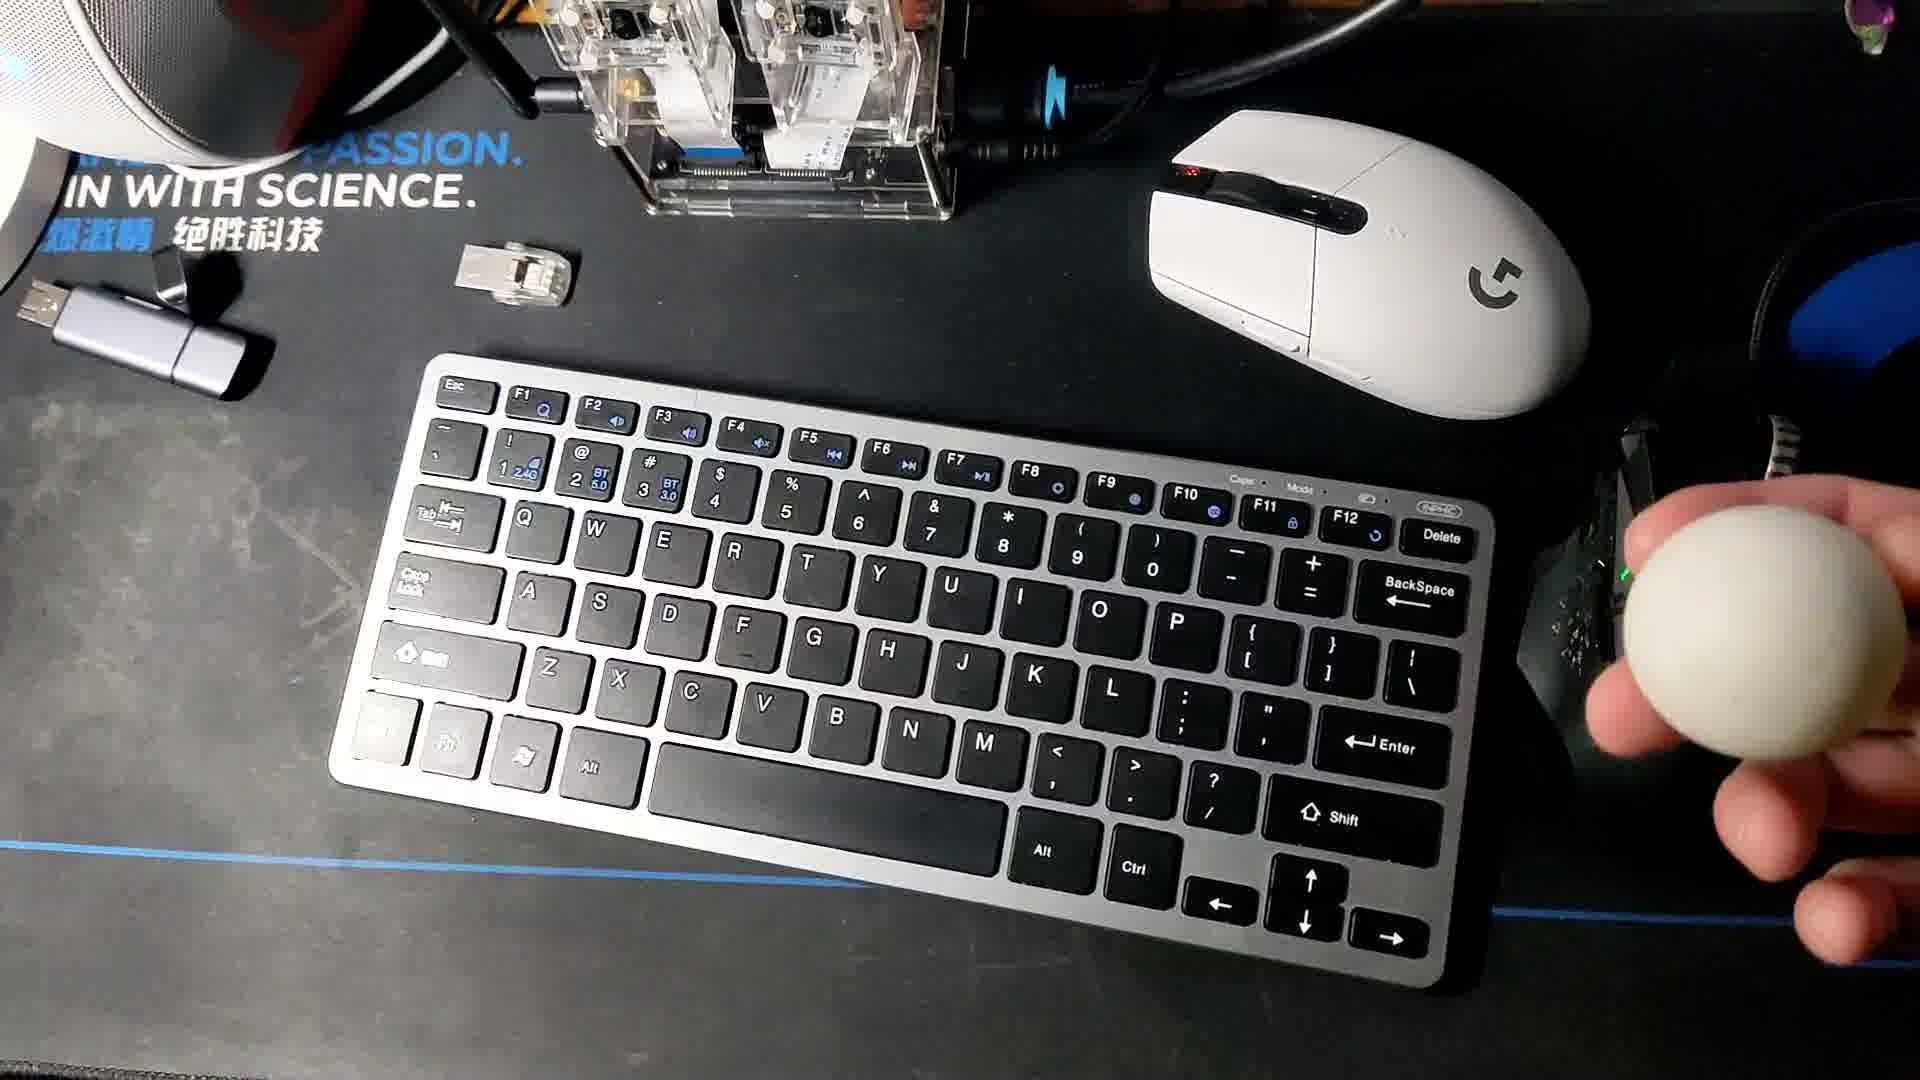Ball: (1623, 508, 1908, 770)
